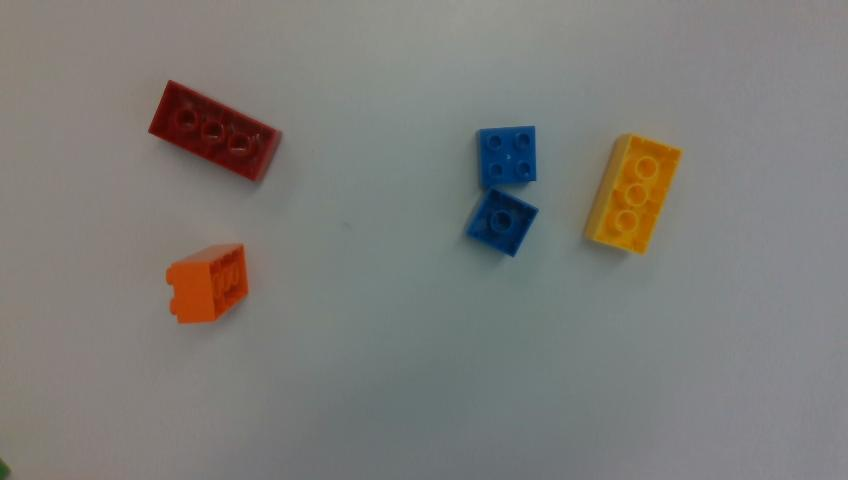2x2_blue: (467, 189, 537, 256), (479, 126, 535, 186)
4x2_orange: (166, 244, 248, 323)
4x2_red: (150, 80, 280, 180)
4x2_yellow: (584, 134, 681, 253)
